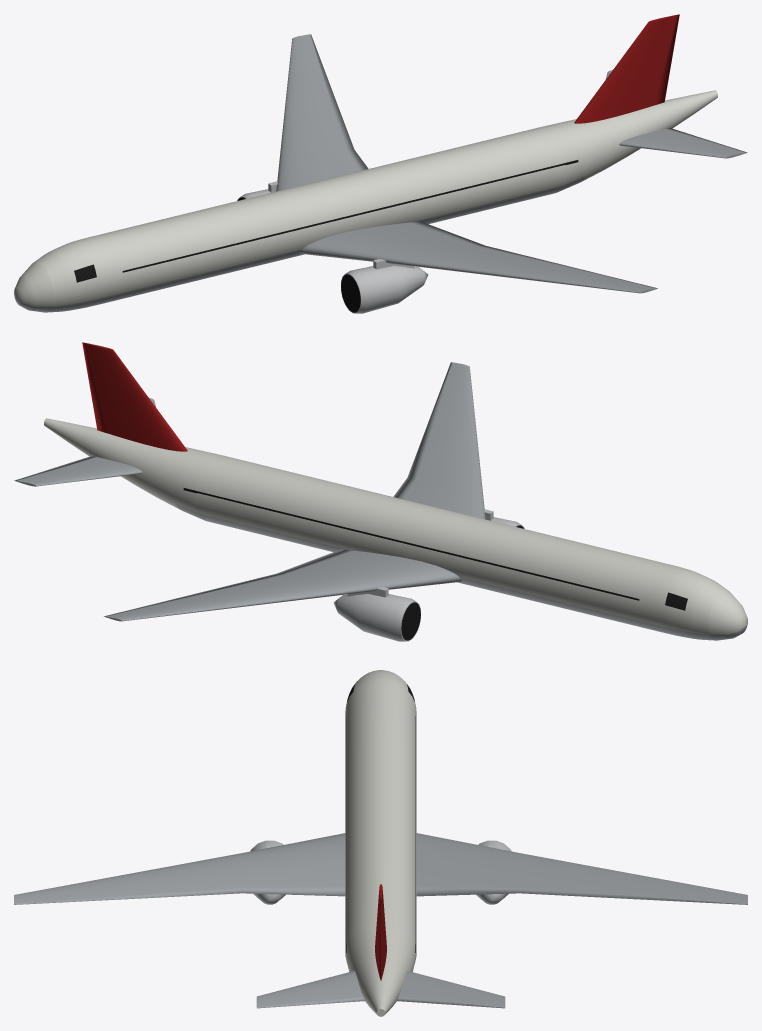
3 views of the same model, one above another, from view 1: azimuth 30°, elevation 25°; view 2: azimuth 150°, elevation 25°; view 3: azimuth 270°, elevation 25° (orthographic). The views are drawn at different scales.
Parts seen in each view (by area): view 1: b77w; view 2: b77w; view 3: b77w.
Part boxes in pixels (x1,y1,x2,y2): b77w: [14, 14, 747, 313]; b77w: [14, 342, 747, 641]; b77w: [14, 670, 747, 1016].
Size of the model in its own units: 73.9 by 16.91 by 63.51.
